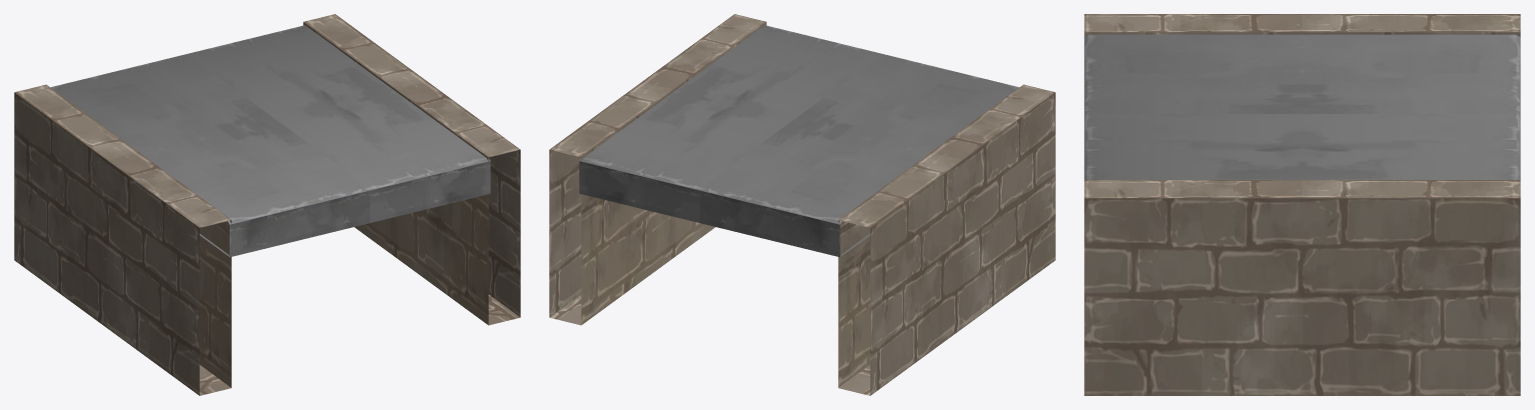
File: stairs_platform.glb
3 views of the same model, side by side, from view 1: azimuth 30°, elevation 25°; view 2: azimuth 150°, elevation 25°; view 3: azimuth 270°, elevation 25° (orthographic). The views are drawn at different scales.
Parts seen in each view (by area): view 1: Stairs_Exterior_Platform; view 2: Stairs_Exterior_Platform; view 3: Stairs_Exterior_Platform.
Part boxes in pixels (bbox=[...]): Stairs_Exterior_Platform: bbox=[14, 14, 520, 395]; Stairs_Exterior_Platform: bbox=[549, 14, 1055, 395]; Stairs_Exterior_Platform: bbox=[1084, 14, 1520, 395].
Size of the model in its own units: 2 by 1 by 2.
Materials: 2 (2 with a texture image).
